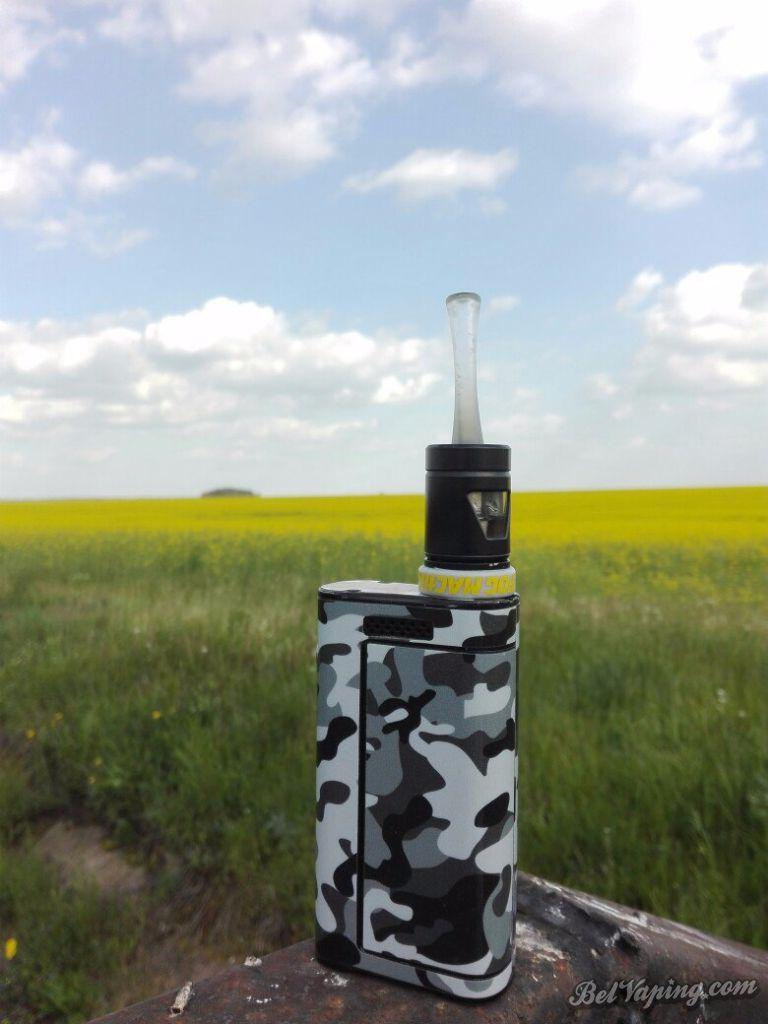Vape: (316, 293, 518, 1000)
